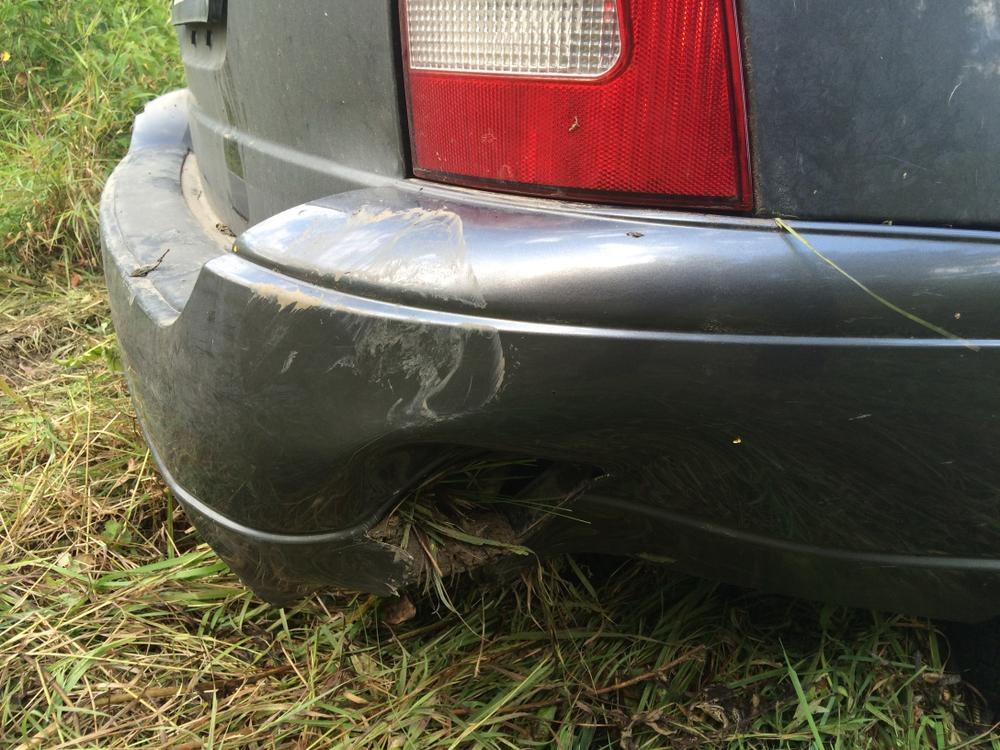dent: (327, 404, 984, 610)
scratch: (234, 200, 518, 438)
